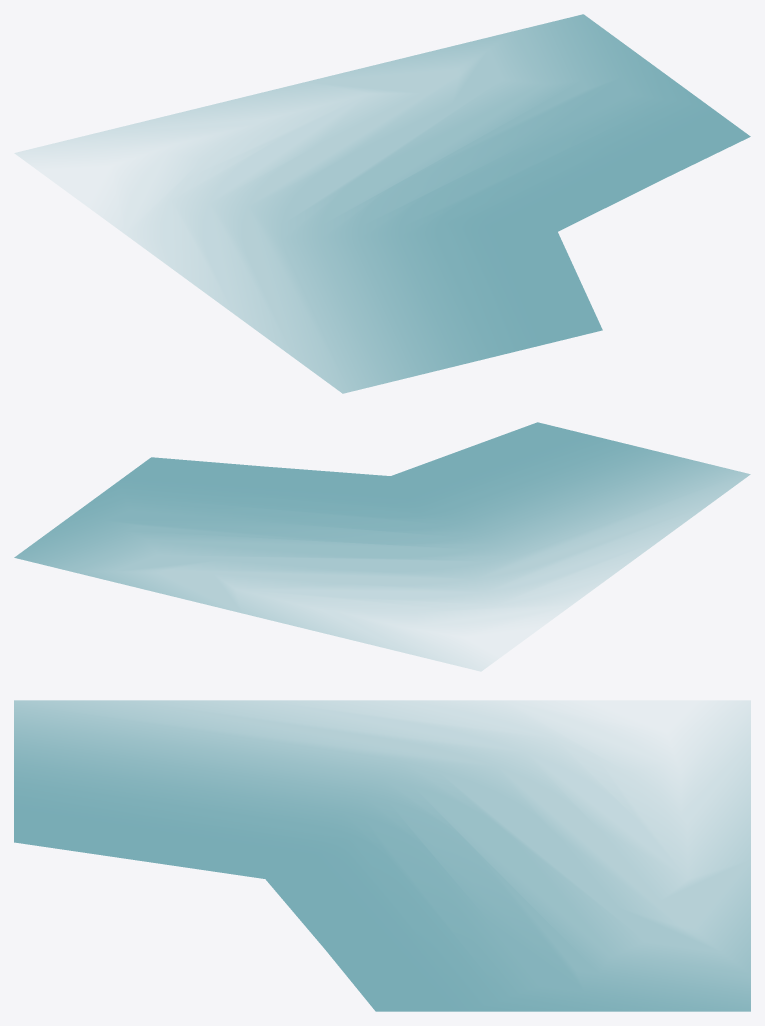
3 renders of one model, top to bottom at view 1: azimuth 30°, elevation 25°; view 2: azimuth 150°, elevation 25°; view 3: azimuth 270°, elevation 25°, orthographic. The views are drawn at different scales.
Visible parts, largest first — view 1: city; view 2: city; view 3: city.
Part boxes in pixels (x1,y1,x2,y2): city: (15, 14, 750, 393); city: (14, 422, 750, 670); city: (14, 700, 750, 1011).
Size of the model in its own units: 500 by 0 by 500.
